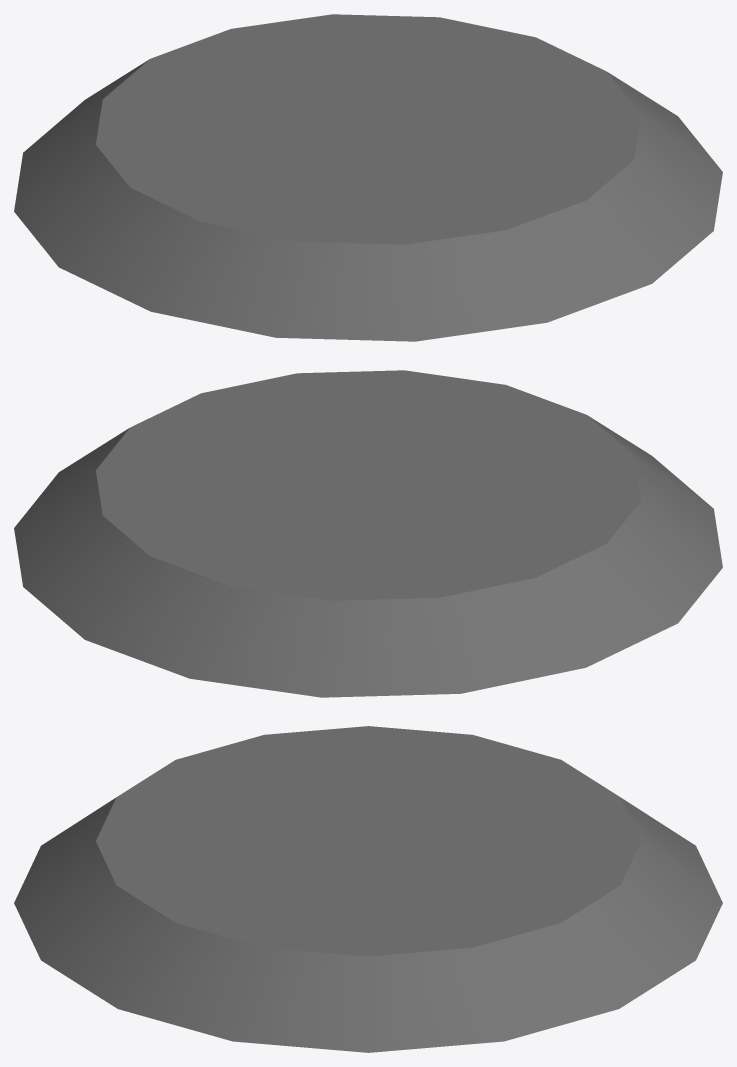
Rendered from Collider_CylinderS.FBX.
3 views of the same model, one above another, from view 1: azimuth 30°, elevation 25°; view 2: azimuth 150°, elevation 25°; view 3: azimuth 270°, elevation 25° (orthographic).
Parts seen in each view (by area): view 1: Collider_CylinderS; view 2: Collider_CylinderS; view 3: Collider_CylinderS.
Boxes of the visible parts, bbox=[...] form: Collider_CylinderS: bbox=[14, 14, 722, 341]; Collider_CylinderS: bbox=[14, 370, 722, 697]; Collider_CylinderS: bbox=[14, 726, 722, 1052].
Bounding box in the file's own units: 208 × 20 × 208.
1 material, 1 textured.
